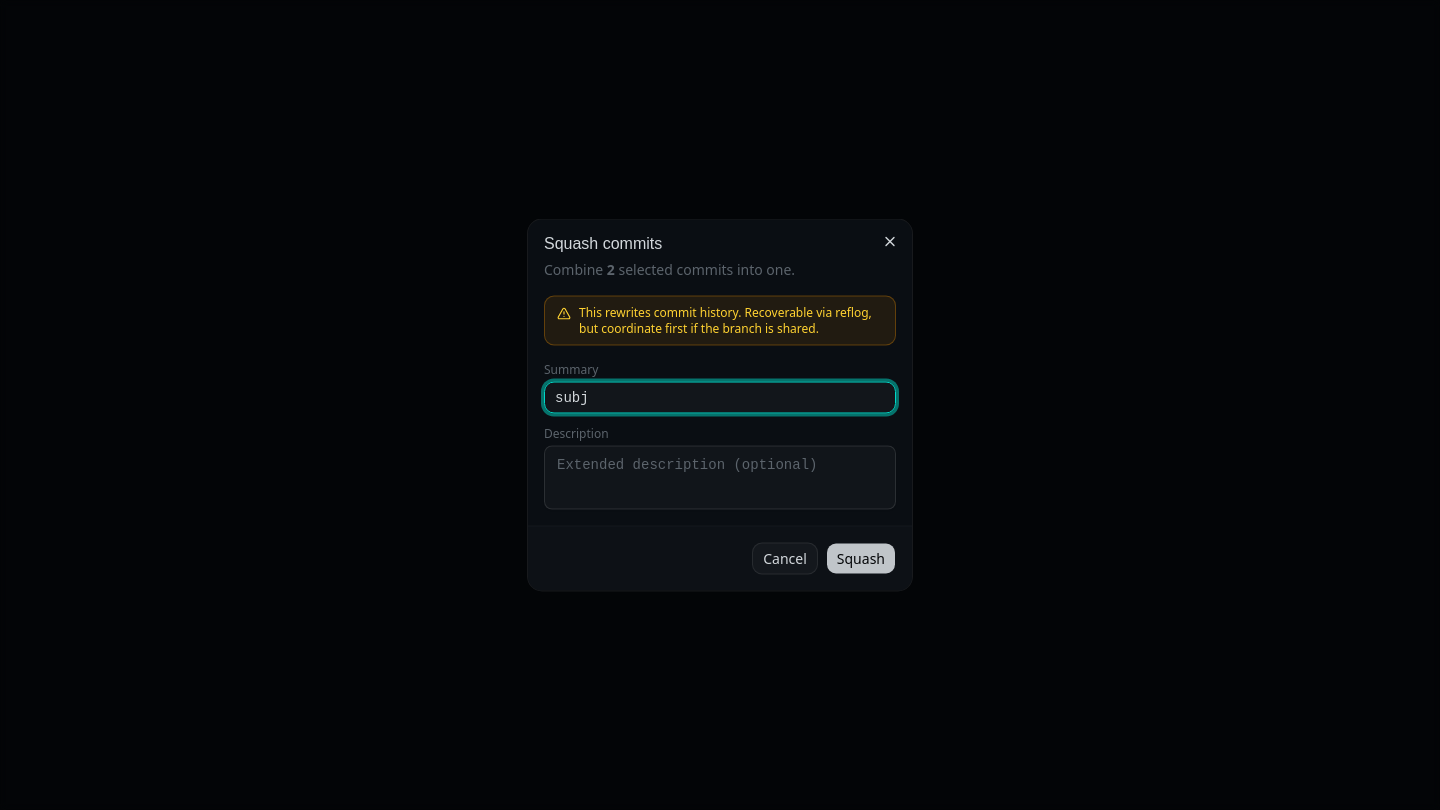
Test: Dialogs › SquashDialog › shows error when ipc.squashCommits throws
The image size is (1440, 810).
Check: the field showing "subj" is shown, box [544, 382, 896, 414]
What coordinates should you click on to do the following:
click the button "Squash"
I would click on:
 (861, 558)
Its box is [826, 542, 896, 574].
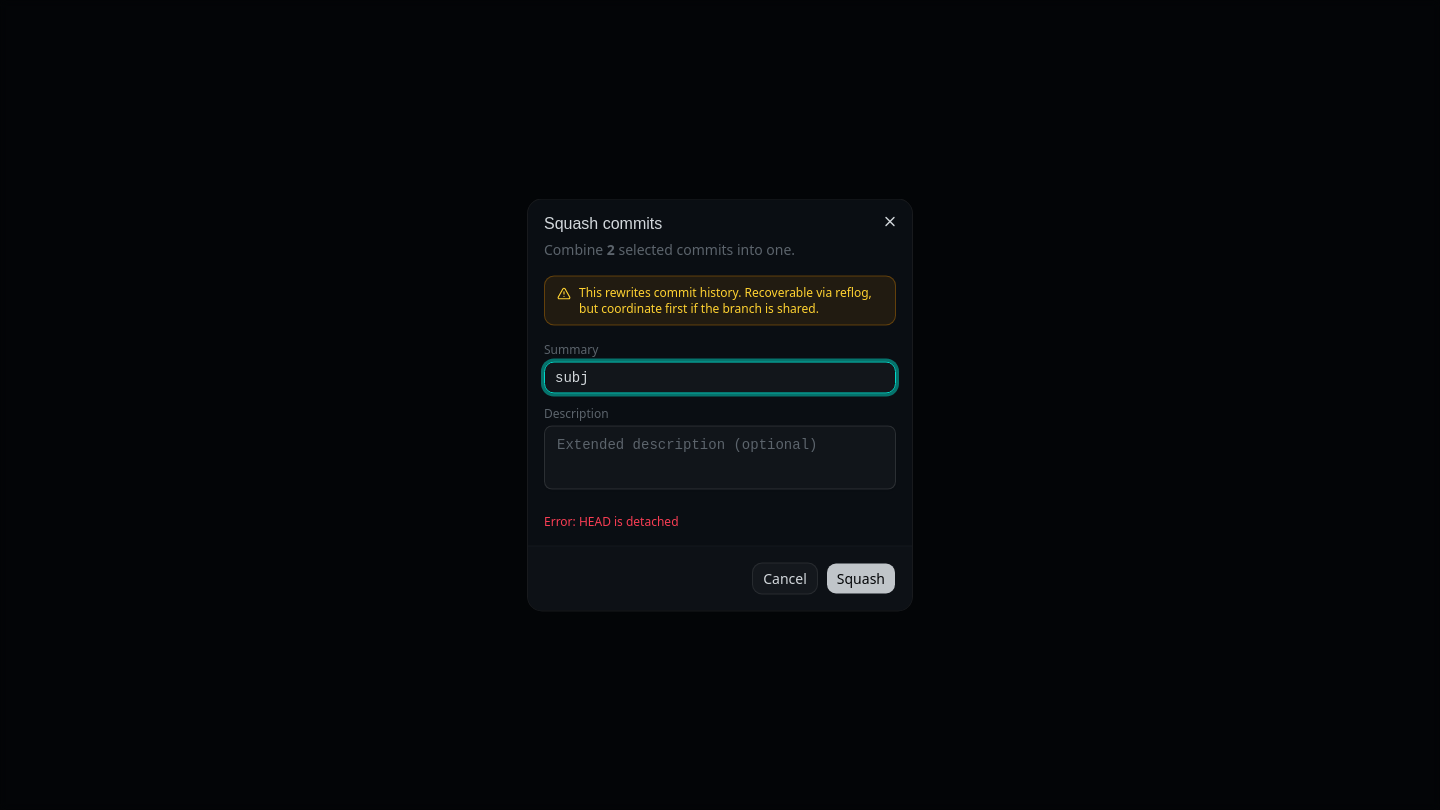
Check: the text "Error: HEAD is detached" is shown, box [544, 512, 678, 530]
